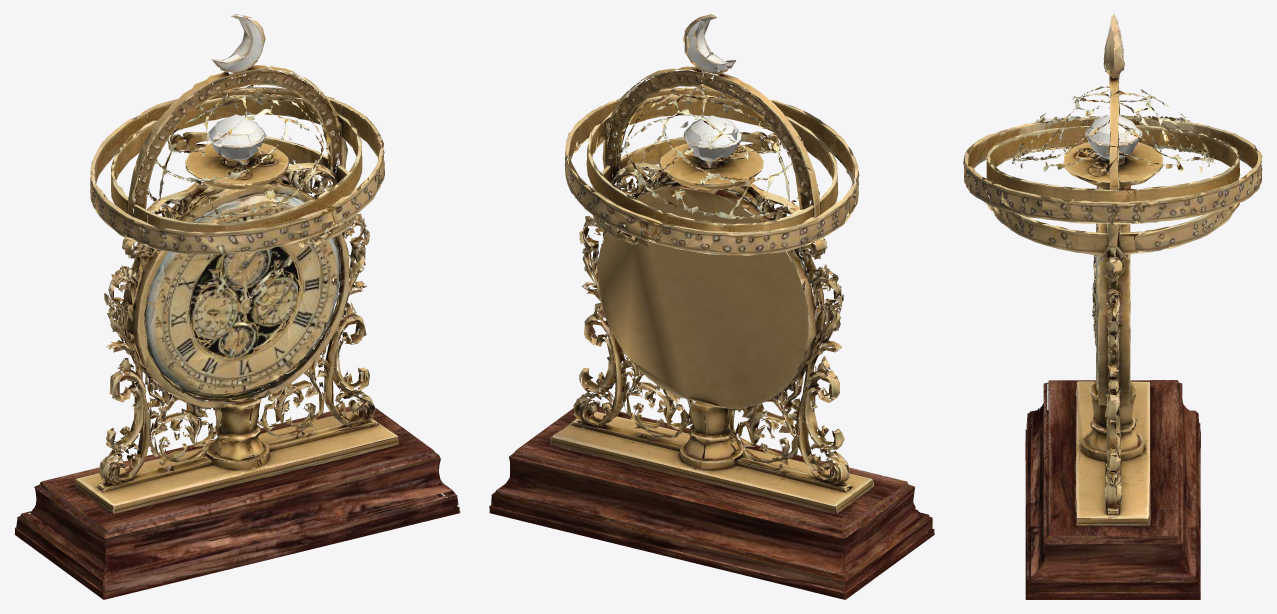
File: astro.glb
3 views of the same model, side by side, from view 1: azimuth 30°, elevation 25°; view 2: azimuth 150°, elevation 25°; view 3: azimuth 270°, elevation 25° (orthographic). The views are drawn at different scales.
Parts seen in each view (by area): view 1: astro; view 2: astro; view 3: astro.
Boxes of the visible parts, x1=… form: astro: x1=14, y1=14, x2=460, y2=599; astro: x1=489, y1=14, x2=934, y2=599; astro: x1=963, y1=14, x2=1262, y2=599.
Size of the model in its own units: 0.7339 by 1 by 0.5442.
Materials: 1 (1 with a texture image).
